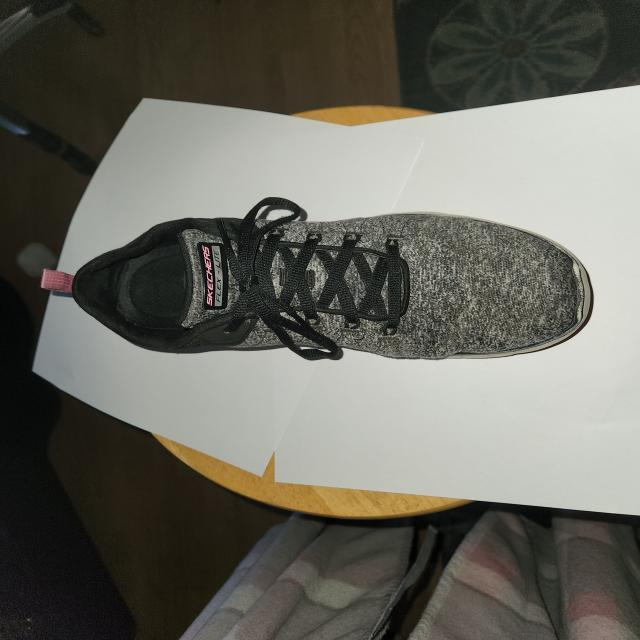shoes: (68, 210, 596, 362)
